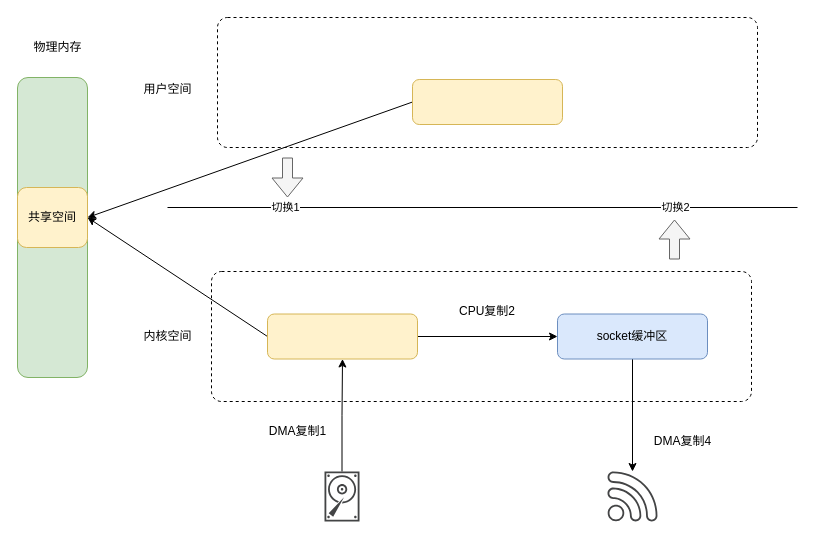
The diagram is 816 pixels wide and 539 high, and some of its shapes have lost their labels. The centre of each missing label's shape, as x and y in pixels:
内核缓冲区: the point at 342,336
用户数据缓冲区: the point at 487,101
